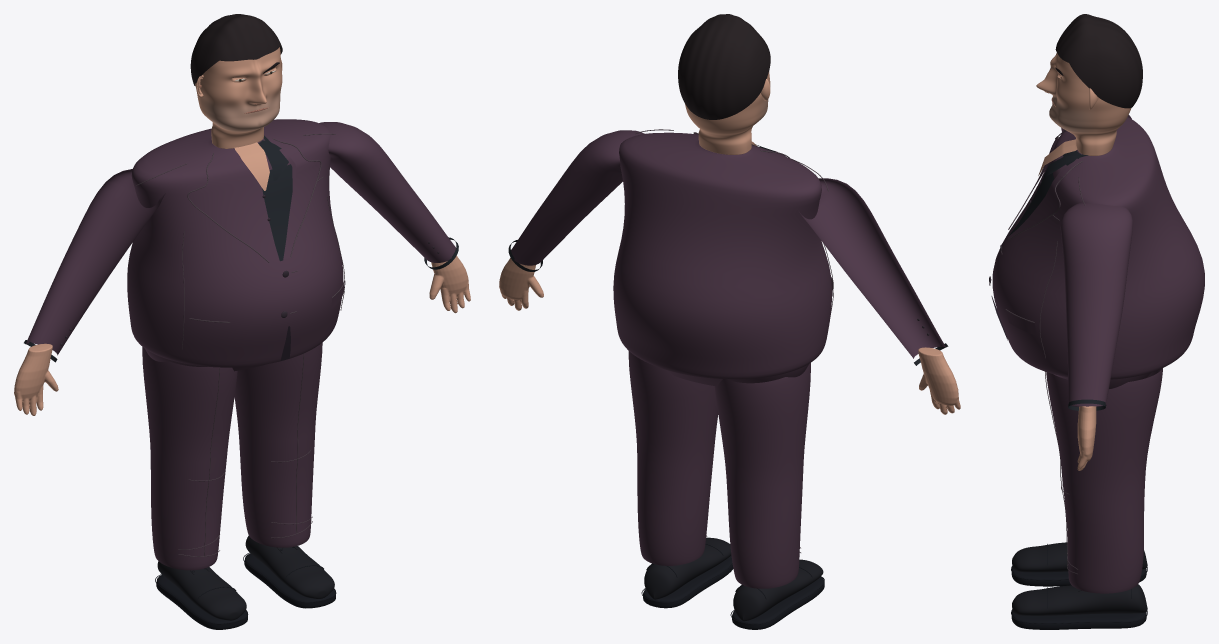
File: patron.glb
The picture shows the model from 3 angles, left to right: view 1: azimuth 30°, elevation 25°; view 2: azimuth 150°, elevation 25°; view 3: azimuth 270°, elevation 25°; orthographic projection.
Parts seen in each view (by area): view 1: Jacket - fitted continuous shell, Tailored suit trouser leg - left, Tailored suit trouser leg - right, Tailored jacket sleeve - left, Tailored jacket sleeve - right, Head | sculpted jaw cheeks nose forehead, Hair | continuous slicked back sculpted cap, Right_Shoe_Upper, Left_Shoe_Upper, Left_Hand, Black shirt front - right, Jacket notched lapel - right (+3 smaller); view 2: Jacket - fitted continuous shell, Tailored suit trouser leg - left, Tailored suit trouser leg - right, Tailored jacket sleeve - left, Hair | continuous slicked back sculpted cap, Tailored jacket sleeve - right, Head | sculpted jaw cheeks nose forehead, Right_Shoe_Upper, Left_Shoe_Upper, Left_Hand, Left_Shoe_Welt, Right_Hand (+2 smaller); view 3: Jacket - fitted continuous shell, Tailored suit trouser leg - right, Tailored jacket sleeve - right, Hair | continuous slicked back sculpted cap, Head | sculpted jaw cheeks nose forehead, Right_Shoe_Upper, Right_Shoe_Welt, Left_Shoe_Upper, Right_Hand, Jacket notched lapel - right, Left_Shoe_Welt, Black shirt front - right (+1 smaller).
Part boxes in pixels (<box>): Jacket - fitted continuous shell: <box>127,119,343,367</box>; Tailored suit trouser leg - left: <box>142,347,237,570</box>; Tailored suit trouser leg - right: <box>234,342,322,547</box>; Tailored jacket sleeve - left: <box>25,169,165,355</box>; Tailored jacket sleeve - right: <box>319,122,455,262</box>; Head | sculpted jaw cheeks nose forehead: <box>195,47,282,148</box>; Hair | continuous slicked back sculpted cap: <box>190,14,282,85</box>; Right_Shoe_Upper: <box>245,535,334,598</box>; Left_Shoe_Upper: <box>157,561,246,620</box>; Left_Hand: <box>14,343,58,415</box>; Black shirt front - right: <box>258,140,292,261</box>; Jacket notched lapel - right: <box>270,139,320,258</box>; Jacket - fitted continuous shell: <box>613,132,831,379</box>; Tailored suit trouser leg - left: <box>714,363,810,588</box>; Tailored suit trouser leg - right: <box>628,351,718,565</box>; Tailored jacket sleeve - left: <box>799,178,945,358</box>; Hair | continuous slicked back sculpted cap: <box>678,14,770,119</box>; Tailored jacket sleeve - right: <box>511,130,644,265</box>; Head | sculpted jaw cheeks nose forehead: <box>685,71,770,154</box>; Right_Shoe_Upper: <box>644,537,731,599</box>; Left_Shoe_Upper: <box>733,559,823,621</box>; Left_Hand: <box>918,347,960,414</box>; Left_Shoe_Welt: <box>732,577,824,629</box>; Right_Hand: <box>499,258,543,310</box>; Jacket - fitted continuous shell: <box>992,117,1204,379</box>; Tailored suit trouser leg - right: <box>1046,368,1162,593</box>; Tailored jacket sleeve - right: <box>1060,203,1132,406</box>; Hair | continuous slicked back sculpted cap: <box>1055,14,1142,108</box>; Head | sculpted jaw cheeks nose forehead: <box>1036,53,1131,155</box>; Right_Shoe_Upper: <box>1012,584,1147,615</box>; Right_Shoe_Welt: <box>1011,611,1146,629</box>; Left_Shoe_Upper: <box>1012,542,1147,572</box>; Right_Hand: <box>1077,406,1096,470</box>; Jacket notched lapel - right: <box>1008,158,1081,238</box>; Left_Shoe_Welt: <box>1011,567,1146,586</box>; Black shirt front - right: <box>1009,150,1080,235</box>.
Bounding box in the file's own units: 1.55 × 1.87 × 0.6302.
